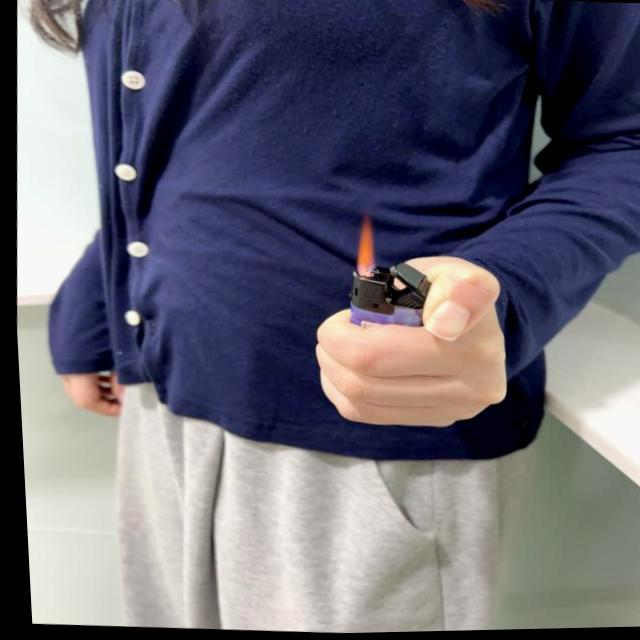Fire: (348, 218, 374, 280)
